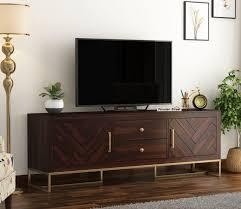TV: (73, 41, 172, 111)
console: (23, 108, 226, 192)
light: (0, 0, 32, 150)
